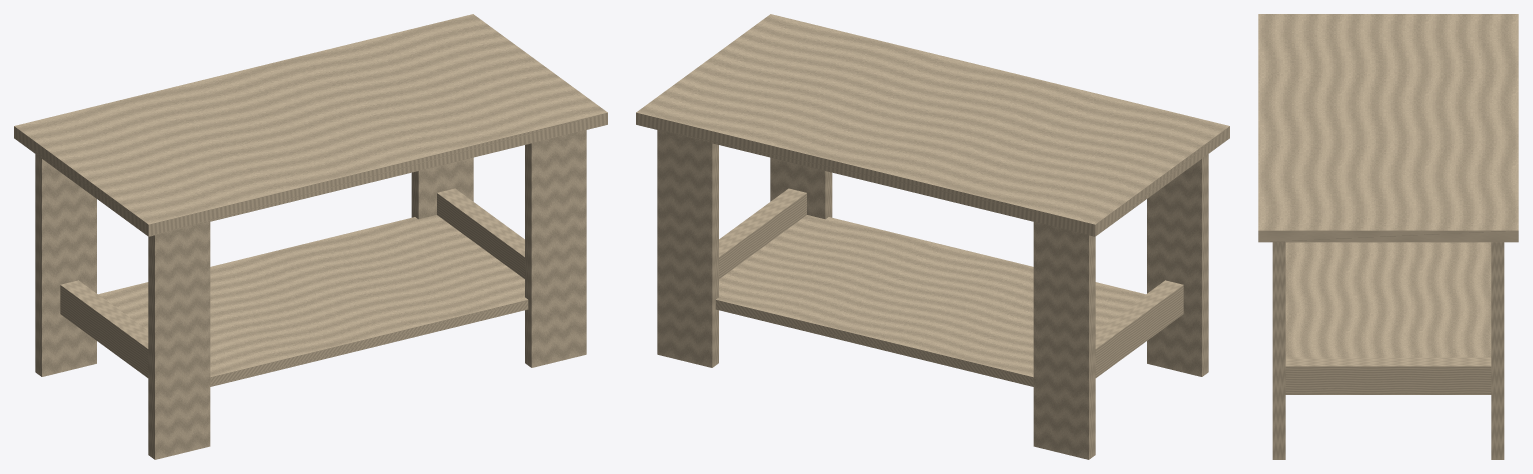
3 views of the same model, side by side, from view 1: azimuth 30°, elevation 25°; view 2: azimuth 150°, elevation 25°; view 3: azimuth 270°, elevation 25° (orthographic). The views are drawn at different scales.
Parts seen in each view (by area): view 1: 1 tabletop, 2 storage_shelf, 3 front_left_leg, 4 front_right_leg, 5 back_left_leg, 7 left_side_rail, 8 right_side_rail, 6 back_right_leg; view 2: 1 tabletop, 2 storage_shelf, 5 back_left_leg, 6 back_right_leg, 3 front_left_leg, 7 left_side_rail, 8 right_side_rail, 4 front_right_leg; view 3: 1 tabletop, 2 storage_shelf, 8 right_side_rail, 4 front_right_leg, 6 back_right_leg.
Part boxes in pixels (bbox=[...]): 1 tabletop: bbox=[14, 14, 607, 236]; 2 storage_shelf: bbox=[98, 215, 528, 386]; 3 front_left_leg: bbox=[148, 222, 210, 459]; 4 front_right_leg: bbox=[525, 130, 586, 367]; 5 back_left_leg: bbox=[35, 154, 96, 376]; 7 left_side_rail: bbox=[60, 280, 148, 377]; 8 right_side_rail: bbox=[437, 188, 524, 278]; 6 back_right_leg: bbox=[411, 157, 473, 219]; 1 tabletop: bbox=[636, 14, 1229, 236]; 2 storage_shelf: bbox=[715, 215, 1145, 386]; 5 back_left_leg: bbox=[1033, 222, 1095, 459]; 6 back_right_leg: bbox=[657, 130, 718, 367]; 3 front_left_leg: bbox=[1147, 154, 1208, 376]; 7 left_side_rail: bbox=[1095, 280, 1183, 377]; 8 right_side_rail: bbox=[719, 188, 806, 278]; 4 front_right_leg: bbox=[770, 157, 832, 219]; 1 tabletop: bbox=[1258, 14, 1518, 242]; 2 storage_shelf: bbox=[1285, 242, 1491, 394]; 8 right_side_rail: bbox=[1285, 357, 1491, 394]; 4 front_right_leg: bbox=[1272, 242, 1285, 459]; 6 back_right_leg: bbox=[1491, 242, 1504, 459].
Bounding box in the file's own units: 0.8001 × 0.4064 × 0.4064.
1 material, 1 textured.
